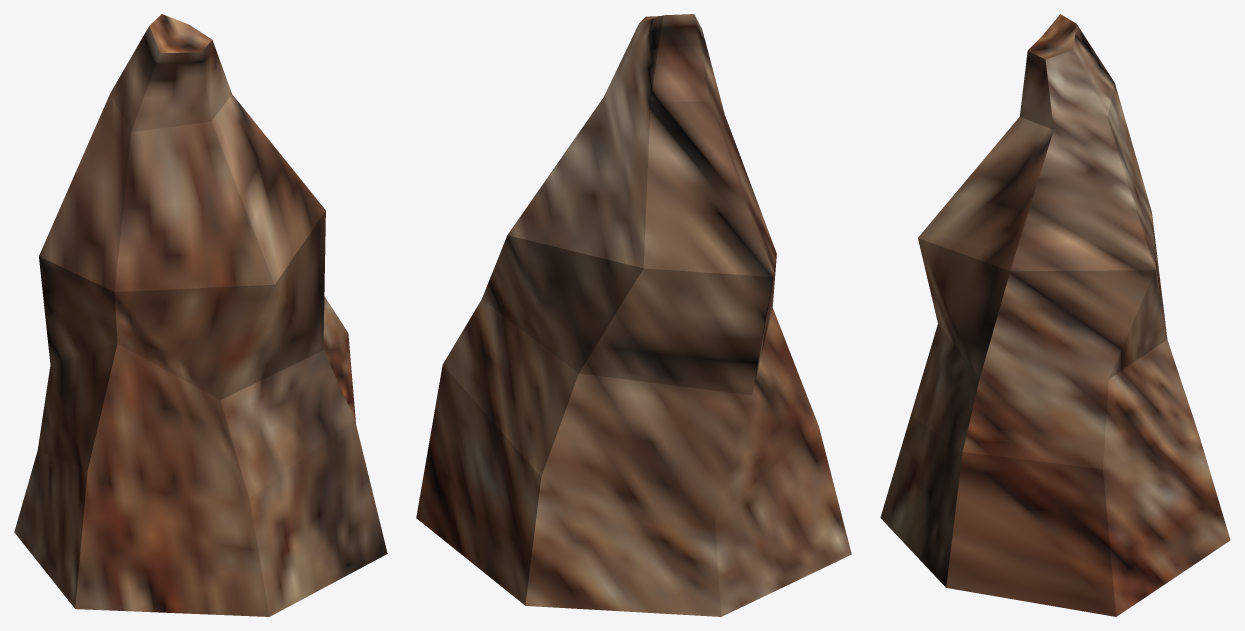
Rendered from obstacle-2.fbx.
3 renders of one model, left to right at view 1: azimuth 30°, elevation 25°; view 2: azimuth 150°, elevation 25°; view 3: azimuth 270°, elevation 25°, orthographic. The views are drawn at different scales.
Parts seen in each view (by area): view 1: Cylinder; view 2: Cylinder; view 3: Cylinder.
Part boxes in pixels (box(x1,y1,x2,y2)): Cylinder: box(14, 14, 387, 616); Cylinder: box(416, 14, 851, 616); Cylinder: box(880, 14, 1230, 616).
Bounding box in the file's own units: 207 × 294 × 189.
